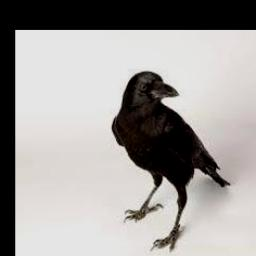Crow: (111, 70, 230, 253)
